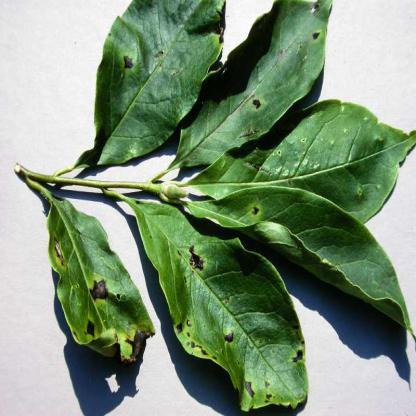Tomato leaf late blight: (130, 192, 309, 411), (189, 190, 414, 336), (152, 3, 330, 178), (38, 196, 150, 380)
